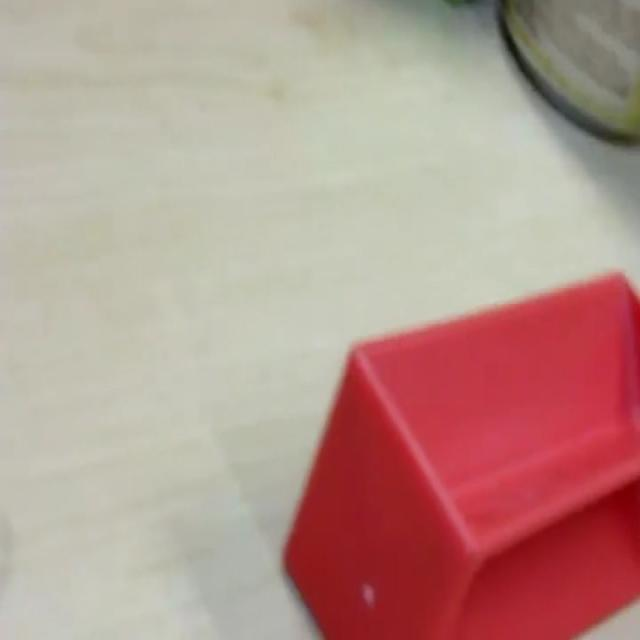red_block: (281, 267, 638, 636)
